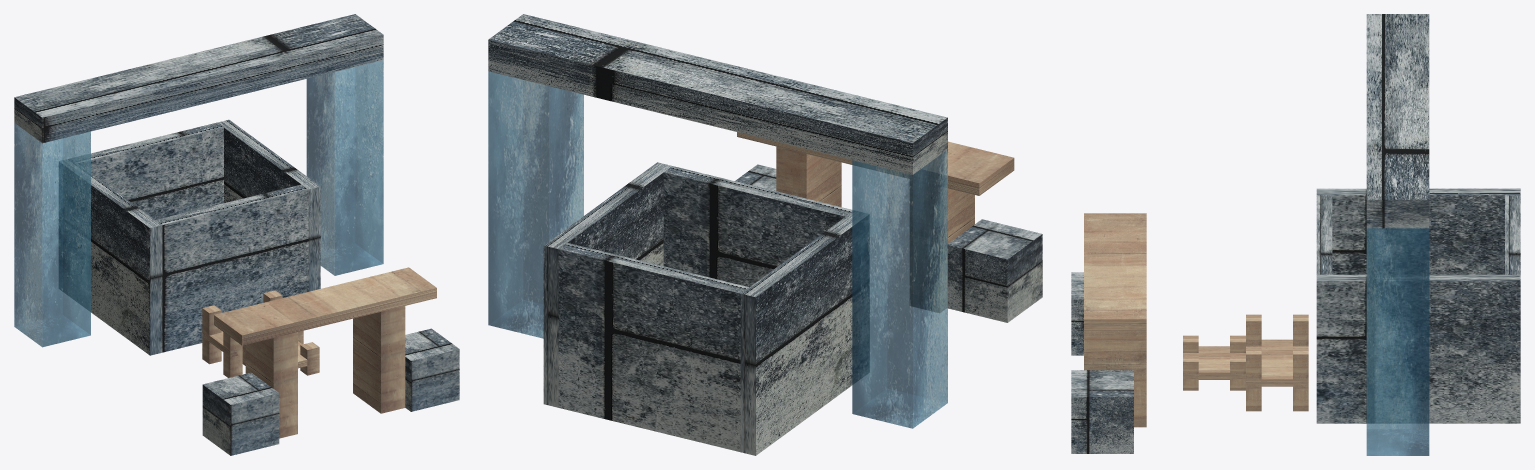
Rendered from PotAnime.glb.
3 views of the same model, side by side, from view 1: azimuth 30°, elevation 25°; view 2: azimuth 150°, elevation 25°; view 3: azimuth 270°, elevation 25° (orthographic). The views are drawn at different scales.
Visible parts, largest first — view 1: Cube.016, Cube.010, Cube.015, Cube.014, Cube.013, Cube.012, Cube.026, Cube.011, Cube.029, Cube.017, Cube.028, Cube.396 (+3 smaller); view 2: Cube.012, Cube.016, Cube.015, Cube.013, Cube.014, Cube.010, Cube.011, Cube.029, Cube.396, Cube.026, Cube.017, Cube.028; view 3: Cube.011, Cube.014, Cube.016, Cube.013, Cube.026, Cube.028, Cube.017, Cube.005, Cube.010, Cube.012, Cube.004, Cube.029 (+6 smaller).
Part boxes in pixels (<box>): Cube.016: <box>14,14,383,143</box>; Cube.010: <box>155,184,308,352</box>; Cube.015: <box>14,123,90,347</box>; Cube.014: <box>306,60,383,275</box>; Cube.013: <box>59,158,162,355</box>; Cube.012: <box>71,122,223,219</box>; Cube.026: <box>214,267,436,345</box>; Cube.011: <box>217,119,320,291</box>; Cube.029: <box>202,372,279,455</box>; Cube.017: <box>353,306,405,413</box>; Cube.028: <box>405,328,459,411</box>; Cube.396: <box>245,332,297,438</box>; Cube.012: <box>558,243,748,452</box>; Cube.016: <box>488,14,947,174</box>; Cube.015: <box>852,149,947,428</box>; Cube.013: <box>740,211,869,455</box>; Cube.014: <box>488,71,583,338</box>; Cube.010: <box>663,166,853,287</box>; Cube.011: <box>543,162,671,407</box>; Cube.029: <box>947,219,1042,322</box>; Cube.396: <box>910,179,974,312</box>; Cube.026: <box>737,132,1014,195</box>; Cube.017: <box>776,146,841,206</box>; Cube.028: <box>735,164,776,190</box>; Cube.011: <box>1316,274,1520,423</box>; Cube.014: <box>1366,228,1429,455</box>; Cube.016: <box>1366,14,1429,228</box>; Cube.013: <box>1316,188,1520,274</box>; Cube.026: <box>1084,213,1146,330</box>; Cube.028: <box>1071,370,1133,453</box>; Cube.017: <box>1084,330,1146,427</box>; Cube.005: <box>1246,339,1308,386</box>; Cube.010: <box>1316,195,1332,274</box>; Cube.012: <box>1505,195,1520,274</box>; Cube.004: <box>1183,346,1245,379</box>; Cube.029: <box>1071,272,1083,355</box>.
Bounding box in the file's own units: 7 × 5 × 7.15.
Materials: 3 (3 with a texture image).
